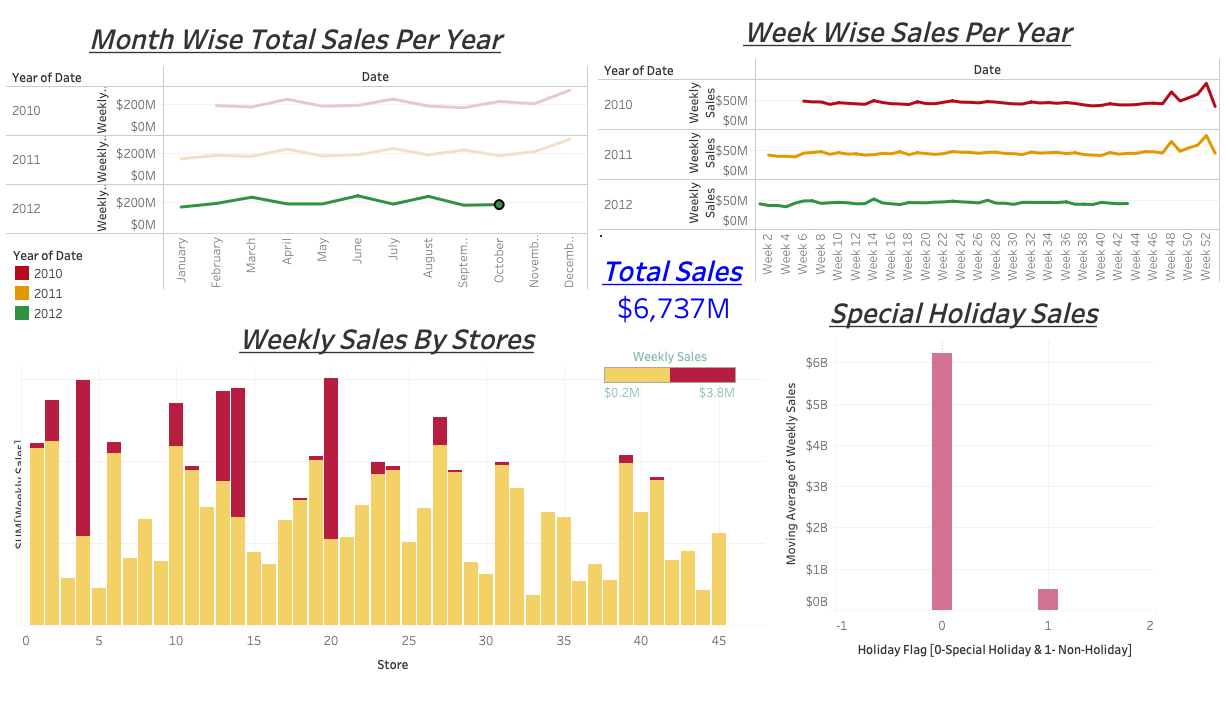

Layout of this report page (visuals, bound fields, positions):
{"tool":"tableau","page":{"name":"Dashboard 2","canvas":[1000,1000],"units":"permille","ordinal":1},"visuals":[{"type":"worksheet","title":"Sheet 6","mark":"Automatic","rows":["Date","Weekly_Sales"],"cols":["Date"],"box":[486.6,10,506.1,393.7]},{"type":"legend","title":"Sheet 5","param":"[federated.1emakq30ayepx919fheic0rkep31].[yr:Date:ok]","box":[418.2,11.4,113.9,114.1]},{"type":"worksheet","title":"Sheet 5","mark":"Line","rows":["Date","Weekly_Sales"],"cols":["Date"],"box":[4.9,20,473.6,393.7]},{"type":"worksheet","title":"Sheet 4","mark":"Automatic","box":[483.3,298.2,205,206.8]},{"type":"worksheet","title":"Sheet 3","mark":"Bar","cols":["Holiday_Flag"],"box":[630.6,410.8,309.2,537.8]},{"type":"worksheet","title":"Sheet 1","mark":"Bar","rows":["Weekly_Sales"],"cols":["Store"],"box":[9,447.9,613.5,522.1]},{"type":"legend","title":"Sheet 1","param":"[federated.1emakq30ayepx919fheic0rkep31].[sum:Weekly_Sales:qk]","box":[488.2,490.7,113.9,84.2]}]}

Visuals, with their boxes on the dashboard's canvas, which has no fixed pixel size, in thousandths of its width and height (x1, y1, x2, y2). These are canvas units, not pixel positions in the 1229x701 screenshot, which may show the page scaled, cropped or inside an application window:
"Sheet 6" worksheet: 487/10/993/404
"Sheet 5" legend: 418/11/532/126
"Sheet 5" worksheet (Line marks): 5/20/478/414
"Sheet 4" worksheet: 483/298/688/505
"Sheet 3" worksheet (Bar marks): 631/411/940/949
"Sheet 1" worksheet (Bar marks): 9/448/622/970
"Sheet 1" legend: 488/491/602/575
